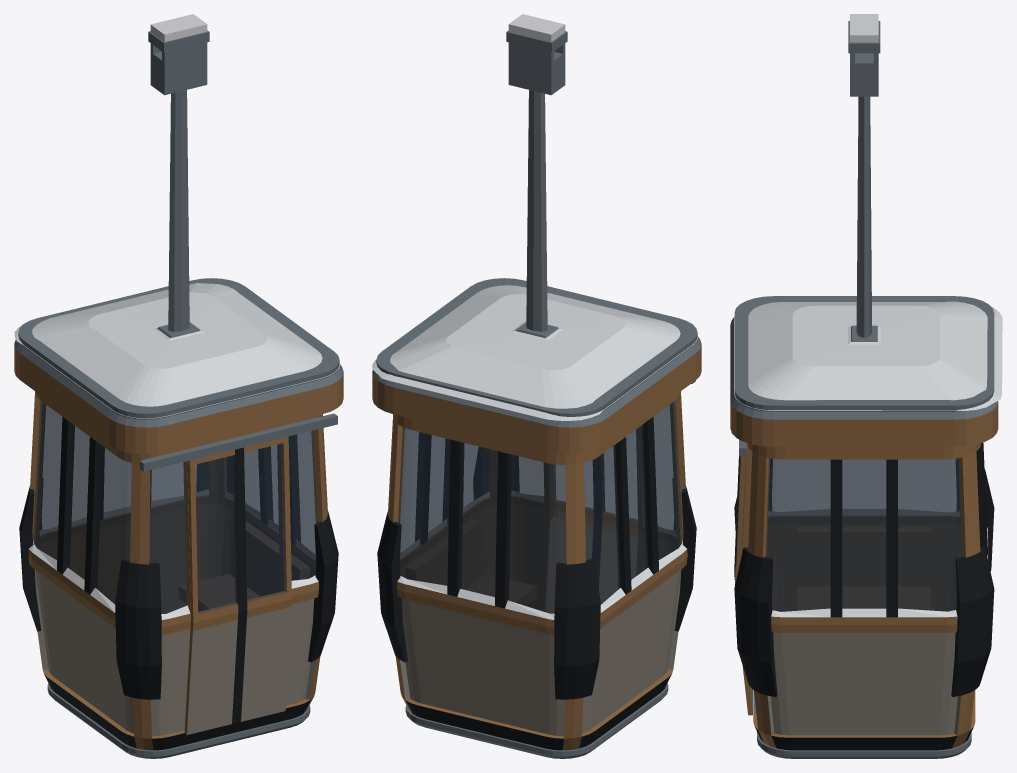
The model's file is gondola-cabin-c05230.glb.
3 renders of one model, left to right at view 1: azimuth 30°, elevation 25°; view 2: azimuth 150°, elevation 25°; view 3: azimuth 270°, elevation 25°, orthographic.
Visible parts, largest first — view 1: swing, door-l, door-r; view 2: swing, door-l, door-r; view 3: swing, door-r.
Part boxes in pixels (bbox=[...]): swing: bbox=[14, 14, 343, 758]; door-l: bbox=[184, 448, 242, 734]; door-r: bbox=[236, 436, 291, 723]; swing: bbox=[372, 14, 701, 758]; door-l: bbox=[595, 430, 638, 602]; door-r: bbox=[545, 458, 598, 613]; swing: bbox=[730, 14, 1002, 758]; door-r: bbox=[734, 456, 752, 715].
Size of the model in its own units: 1.6 by 4.55 by 1.63.
